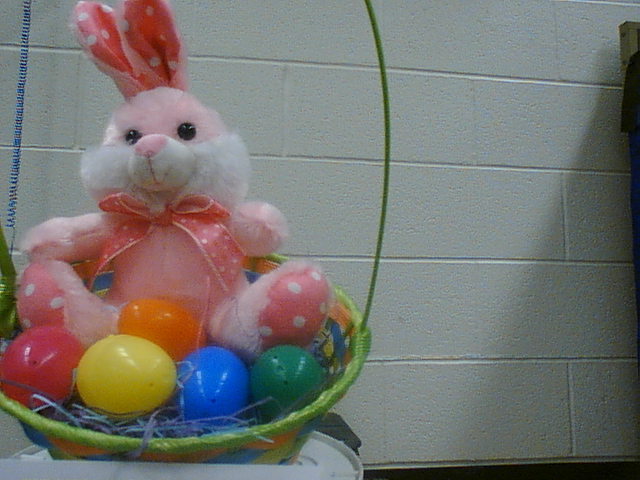bunny: (1, 1, 394, 474)
